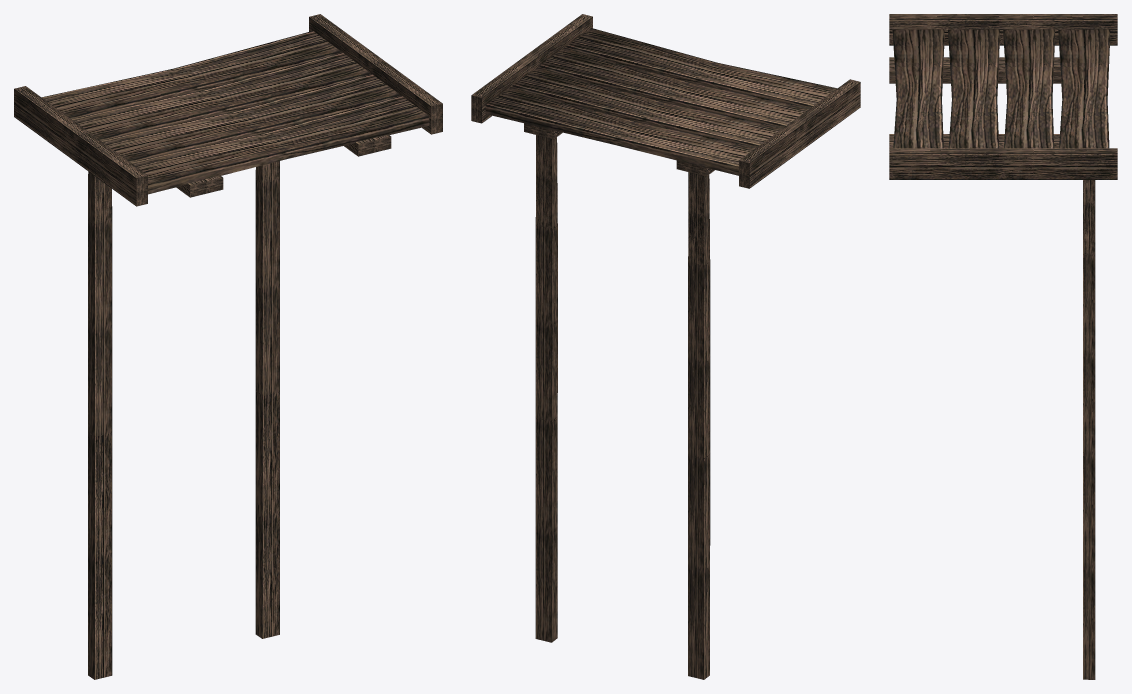
File: CB_LOOKOUT_PLATFORM03.fbx
3 renders of one model, left to right at view 1: azimuth 30°, elevation 25°; view 2: azimuth 150°, elevation 25°; view 3: azimuth 270°, elevation 25°, orthographic. The views are drawn at different scales.
Visible parts, largest first — view 1: CB_LOOKOUT_PLATFORM03; view 2: CB_LOOKOUT_PLATFORM03; view 3: CB_LOOKOUT_PLATFORM03.
Boxes of the visible parts, x1,y1,x2,y2 form: CB_LOOKOUT_PLATFORM03: (14,14,442,679); CB_LOOKOUT_PLATFORM03: (471,14,860,679); CB_LOOKOUT_PLATFORM03: (889,14,1117,679).
Size of the model in its own units: 26035 by 48165 by 18013.
Materials: 1 (1 with a texture image).
